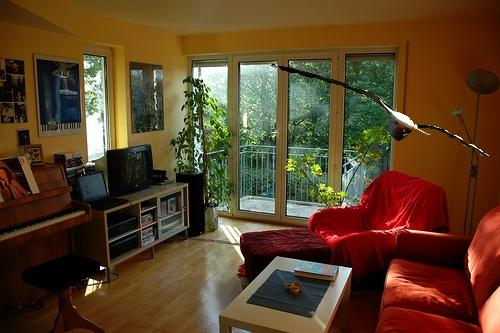tampered: (272, 65, 489, 157)
